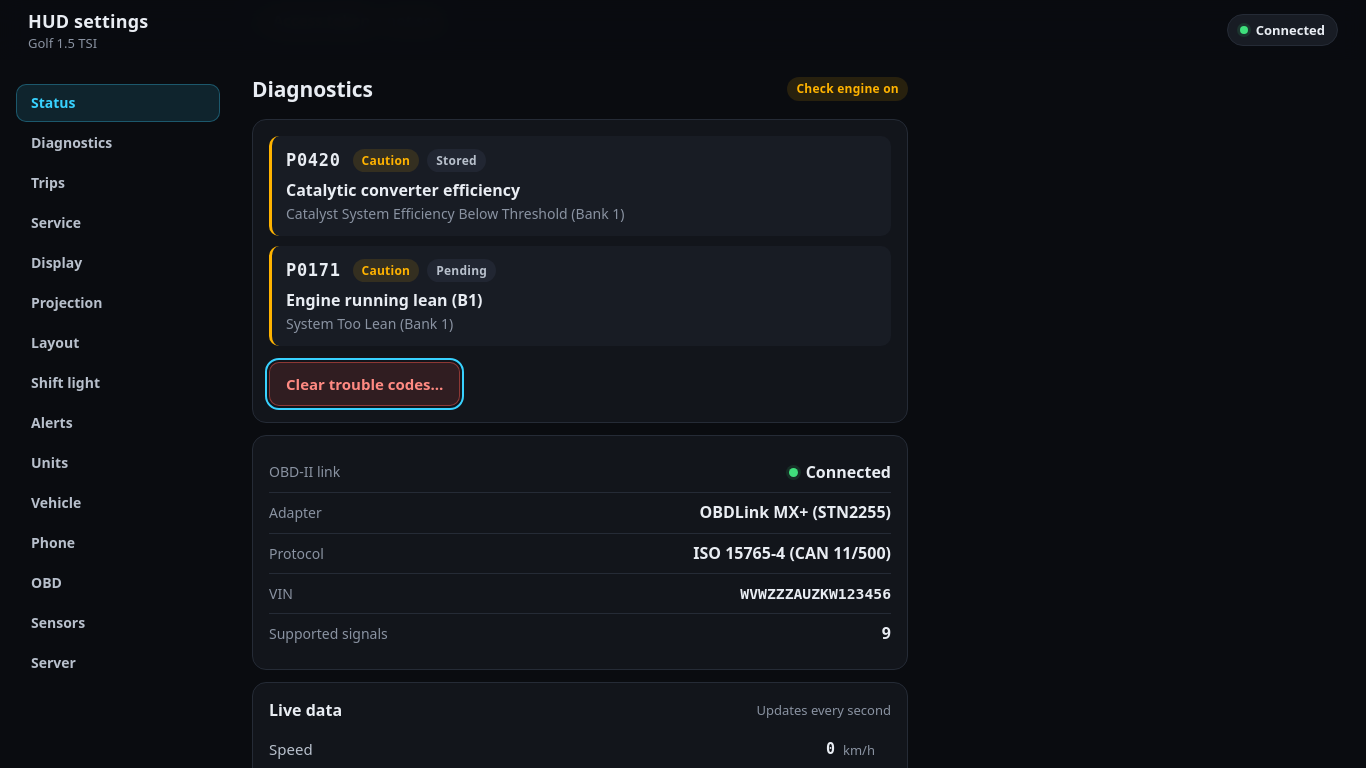
Test: settings app › keeps keyboard focus inside the clear-codes dialog
Click the button "Clear trouble codes…": [365, 384] box [269,362,460,406]
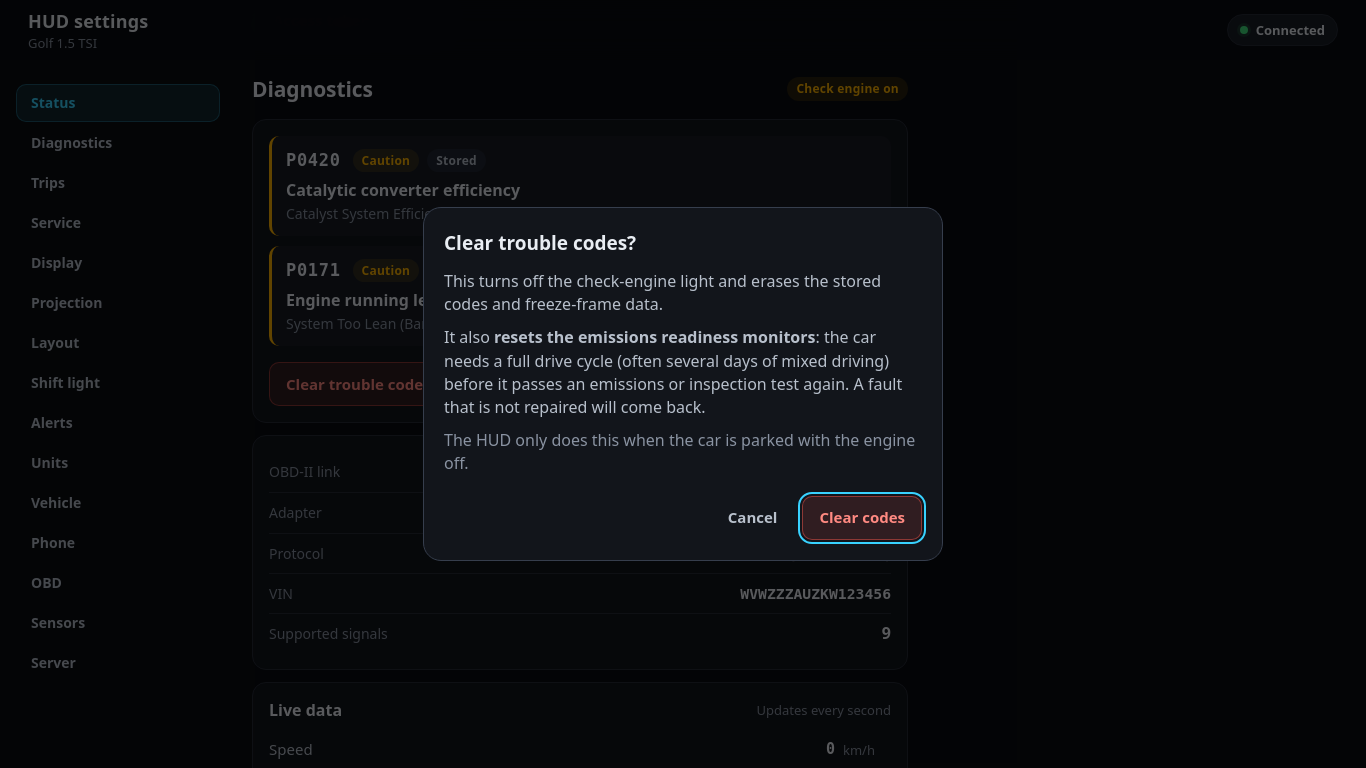
Press Tab in the button "Clear codes", box [802,496,922,540]
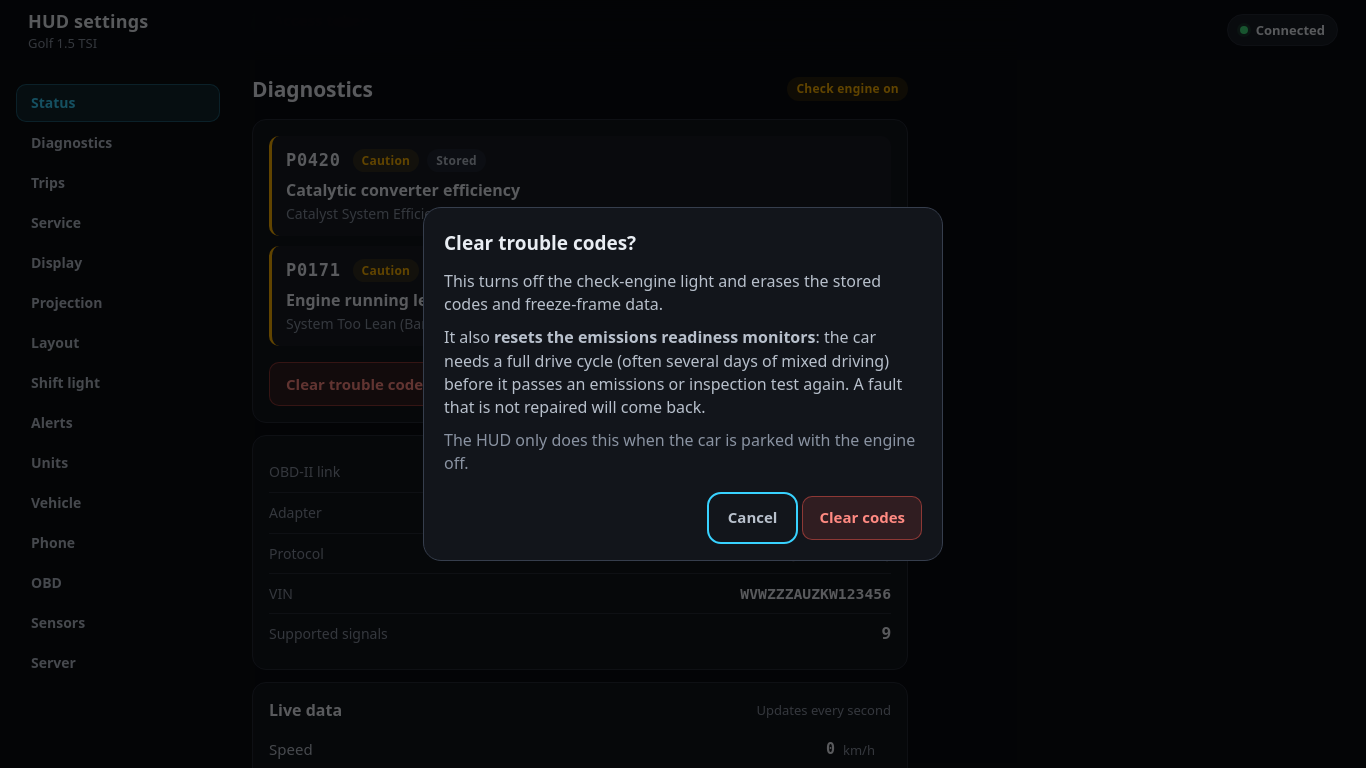
Press Tab in the button "Cancel", box [711,496,794,540]
Press Escape in the button "Cancel", box [711,496,794,540]
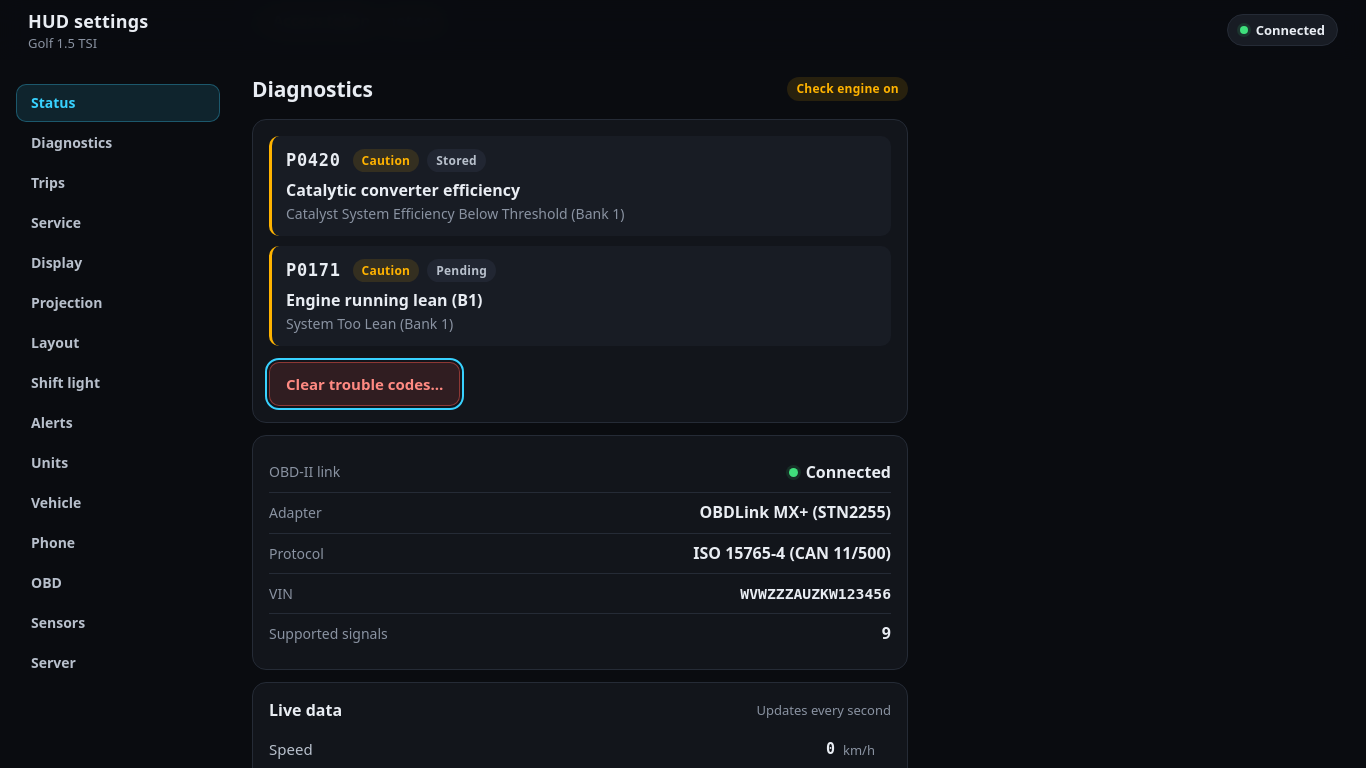
Now the dialog is gone
